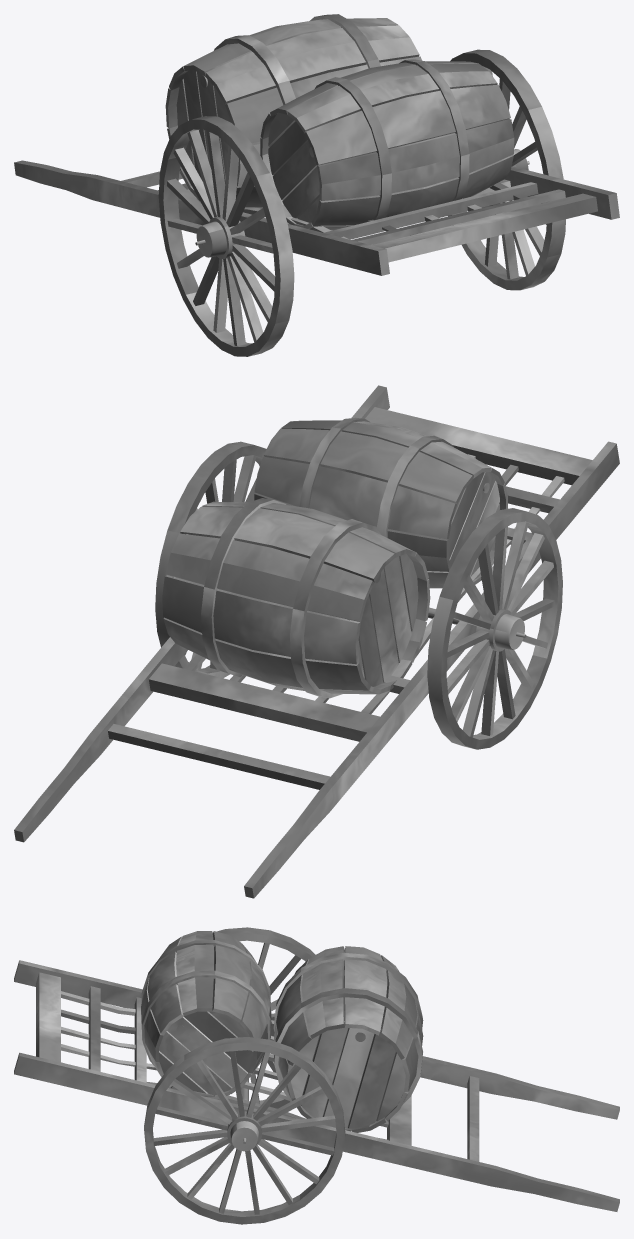
The model's file is SM_cart_04.fbx.
3 views of the same model, one above another, from view 1: azimuth 30°, elevation 25°; view 2: azimuth 150°, elevation 25°; view 3: azimuth 270°, elevation 25° (orthographic). The views are drawn at different scales.
Parts seen in each view (by area): view 1: SM_cart_04; view 2: SM_cart_04; view 3: SM_cart_04.
Boxes of the visible parts, left/top/right/bottom form: SM_cart_04: left=14, top=14, right=619, bottom=356; SM_cart_04: left=14, top=385, right=619, bottom=898; SM_cart_04: left=14, top=927, right=619, bottom=1224.
Size of the model in its own units: 187 by 357 by 137.
Materials: 1 (1 with a texture image).
